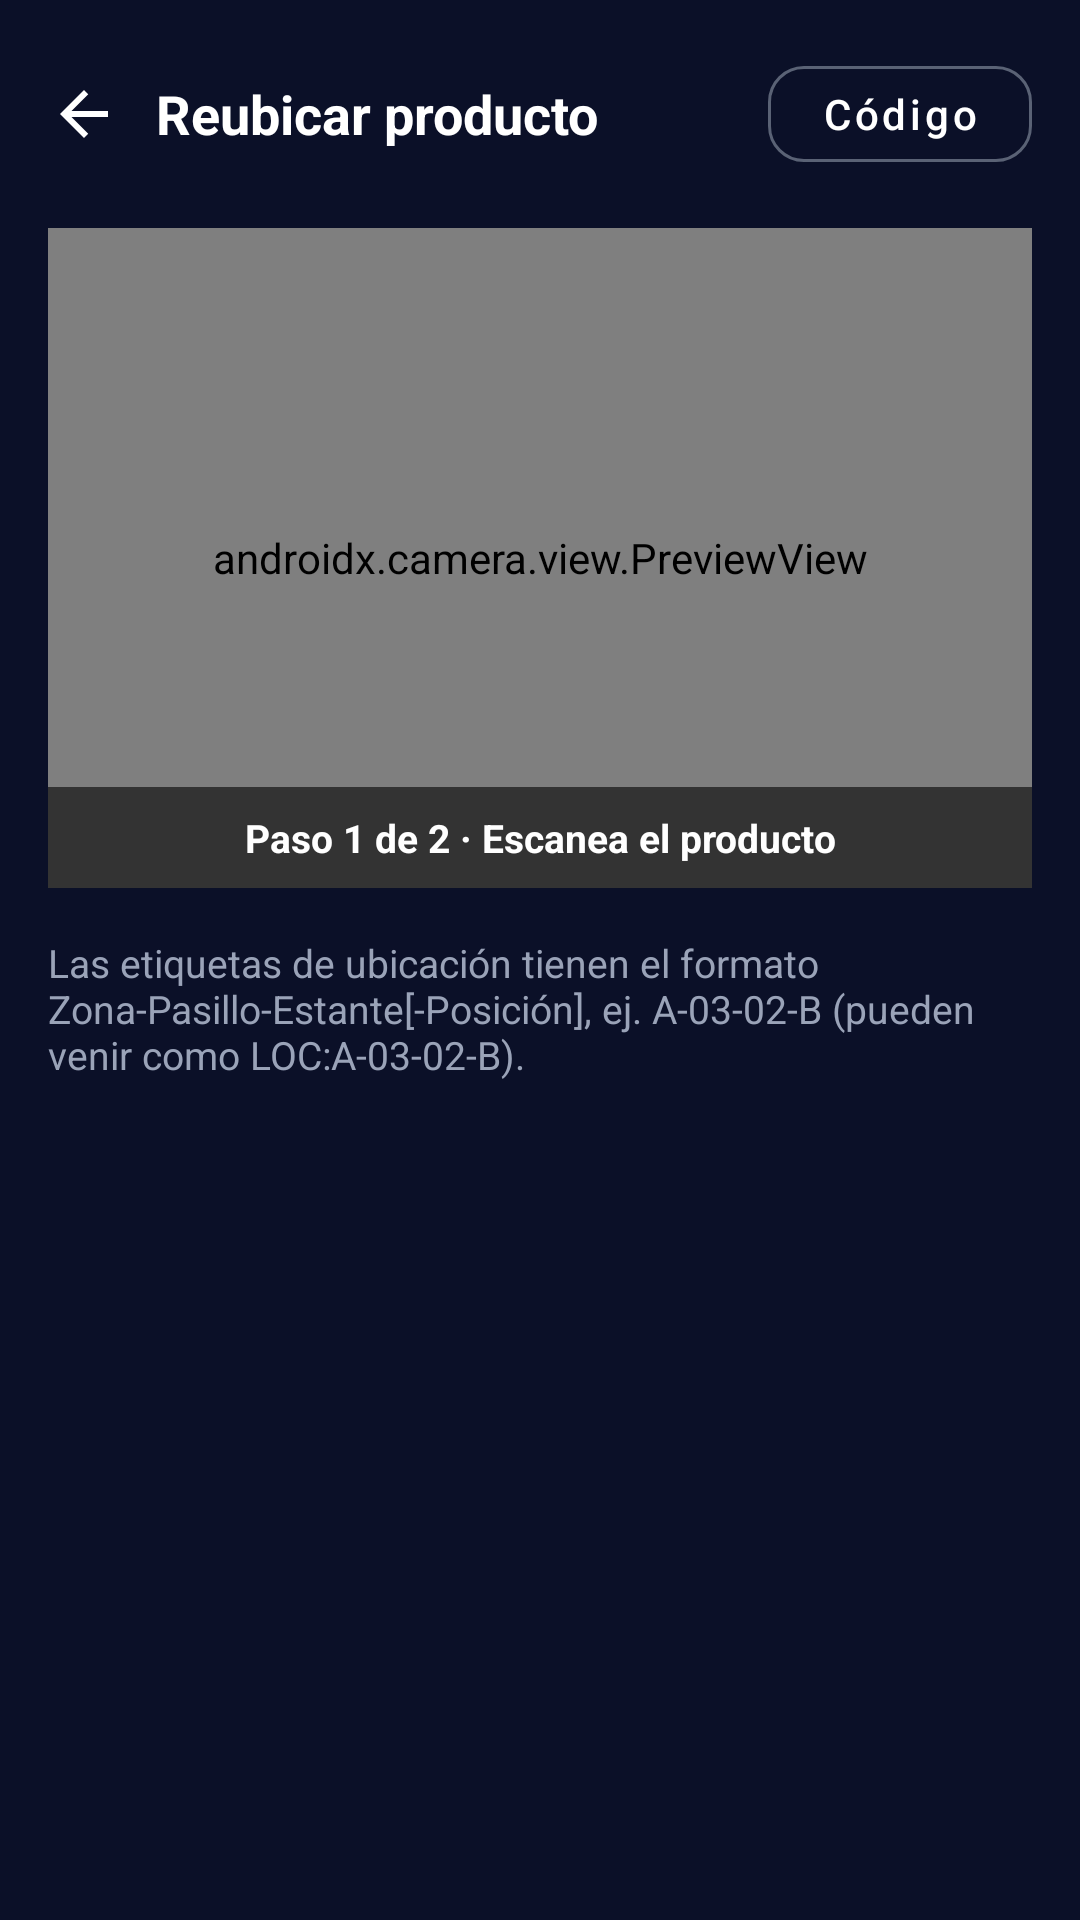

Named icons in this screenshot (1080 x 1920) and their bounding boxes, Rect(x1, y1, x2, y2):
Volver: Rect(60, 90, 108, 138)
